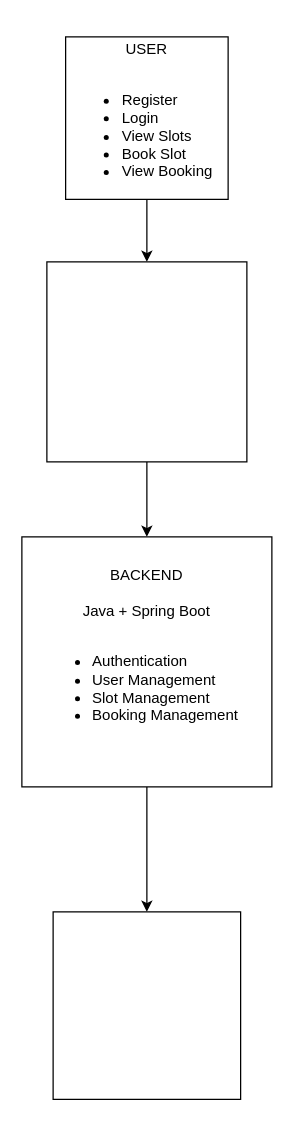
Image size: 294x1121. Some labels were removed from this diagram. Here are the shapes that lost their labels. From the top down, the centre of each, then its label:
the point at 146,361: FRONTEND HTML CSS JAVA SCRIPT Login Signup Slot View Booking
the point at 146,1005: DATABASE MYSQL Users Vaccination Centres Slot Boking
